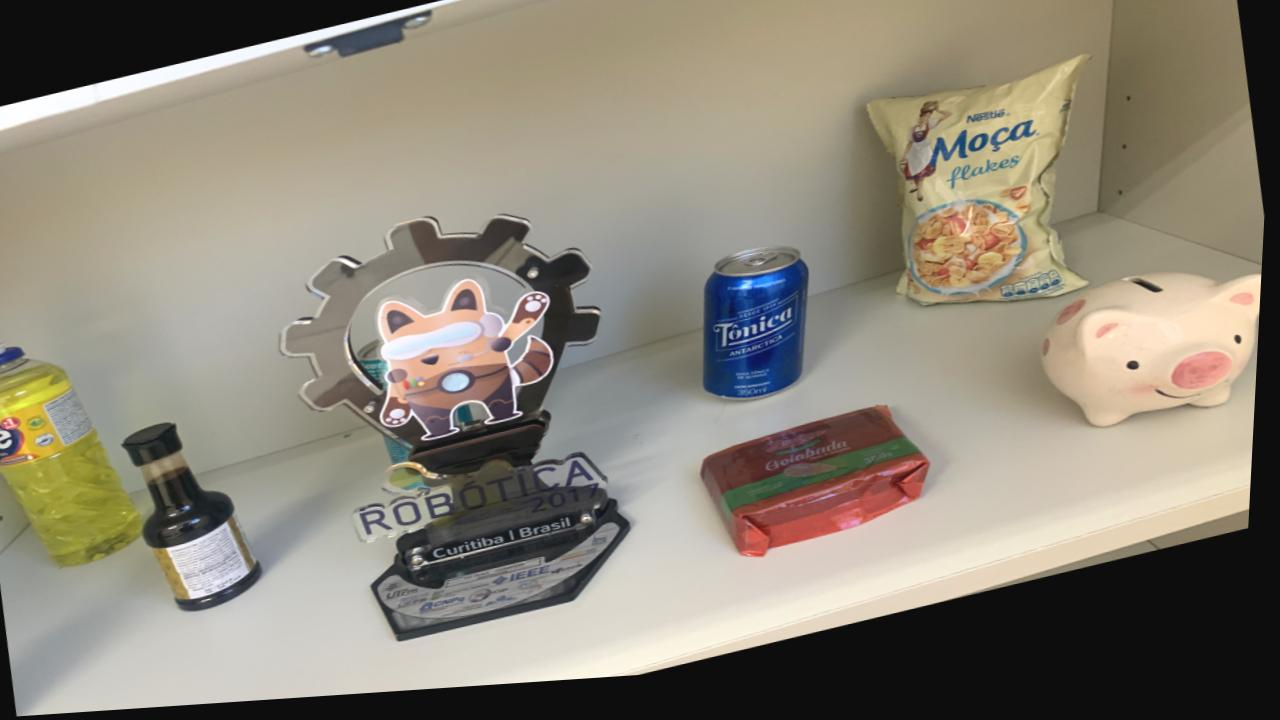Detergent-Cleanup_Items: (0, 345, 147, 567)
English_Sauce-Pantry_Items: (128, 424, 268, 614)
Flakes-Snacks: (869, 71, 1090, 318)
Guava-Snacks: (705, 417, 935, 567)
Pig_Safe-Miscellaneous: (1046, 288, 1265, 442)
Tea-Drinks: (360, 345, 392, 393)
Tonic-Drinks: (707, 257, 812, 410)
Trophy-Miscellaneous: (283, 221, 636, 646), (388, 442, 416, 470)
